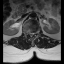CCS_normal: (30, 30, 32, 39)
LFS_stenosis: (34, 30, 36, 36)
LLS_normal: (32, 31, 34, 37)
RFS_stenosis: (26, 30, 28, 37)
RLS_normal: (28, 30, 30, 36)
